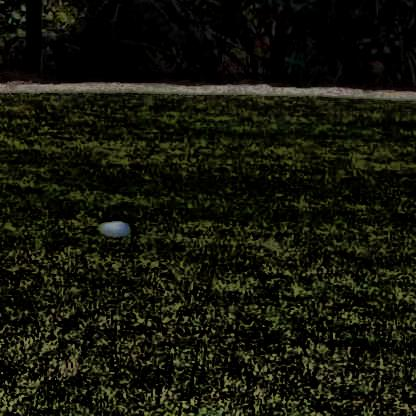golfball: (99, 216, 129, 242)
